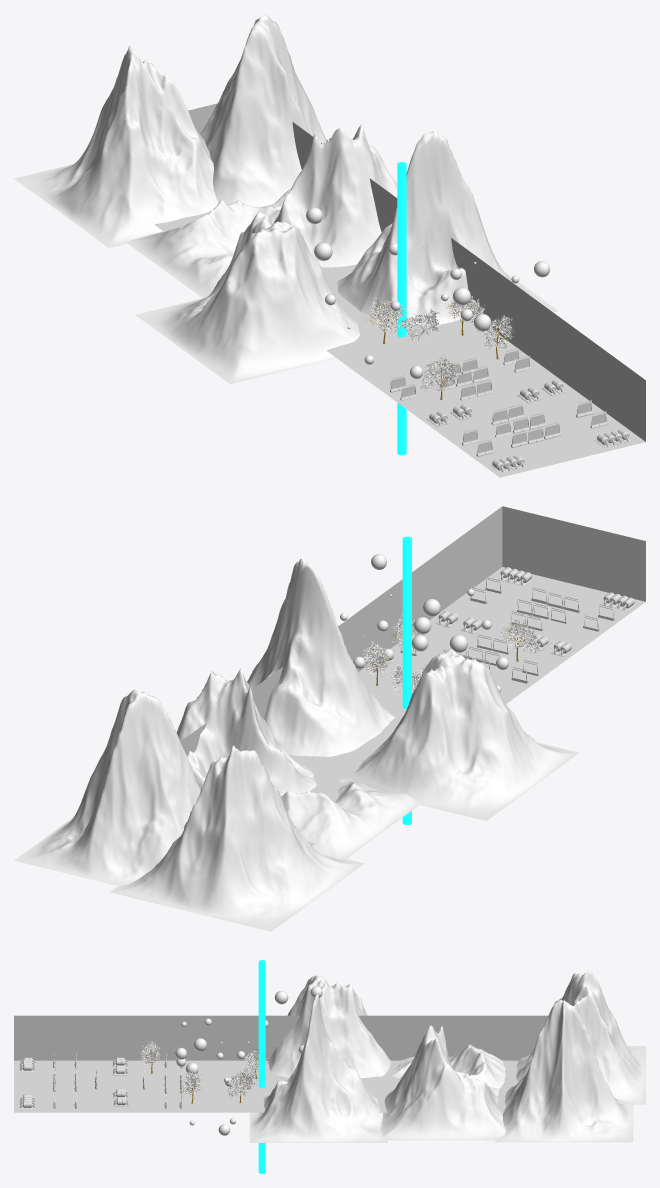
Rendered from mapmtns.glb.
3 renders of one model, top to bottom at view 1: azimuth 30°, elevation 25°; view 2: azimuth 150°, elevation 25°; view 3: azimuth 270°, elevation 25°, orthographic. The views are drawn at different scales.
Parts seen in each view (by area): view 1: Plane, Landscape_5, Landscape, Landscape_4, Landscape_3, Landscape_2, Landscape_1, Cylinder; view 2: Plane, Landscape_5, Landscape, Landscape_3, Landscape_4, Landscape_2, Landscape_1, Cylinder; view 3: Plane, Landscape_3, Landscape_4, Landscape_2, Landscape, Landscape_5, Landscape_1, Cylinder.
Part boxes in pixels (box(x1,y1,x2,y2)): Plane: box(154, 103, 645, 477); Landscape_5: box(14, 46, 218, 247); Landscape: box(136, 211, 359, 384); Landscape_4: box(337, 130, 557, 326); Landscape_3: box(200, 14, 326, 207); Landscape_2: box(269, 124, 397, 267); Landscape_1: box(128, 200, 280, 298); Cylinder: box(397, 162, 406, 455); Plane: box(180, 506, 645, 845); Landscape_5: box(110, 745, 364, 931); Landscape: box(354, 648, 579, 820); Landscape_3: box(14, 689, 200, 886); Landscape_4: box(247, 559, 394, 756); Landscape_2: box(176, 668, 316, 796); Landscape_1: box(281, 778, 419, 858); Cylinder: box(402, 536, 411, 824); Plane: box(14, 1015, 548, 1112); Landscape_3: box(495, 999, 633, 1142); Landscape_4: box(249, 992, 387, 1142); Landscape_2: box(380, 1025, 505, 1140); Landscape: box(268, 974, 390, 1078); Landscape_5: box(516, 969, 645, 1104); Landscape_1: box(391, 1044, 505, 1089); Cylinder: box(258, 960, 265, 1173).
Size of the model in its own units: 78.19 by 67.26 by 183.
